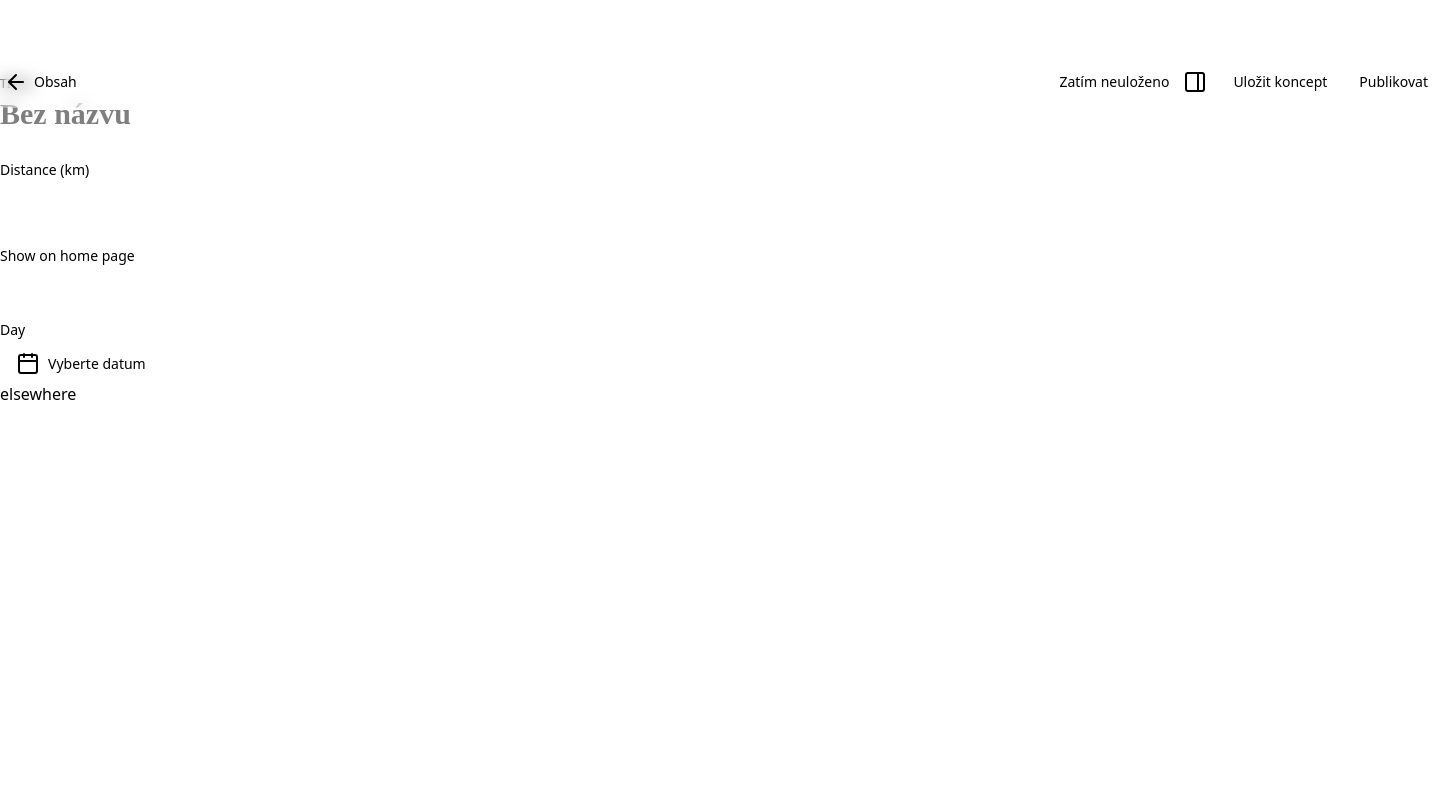
it: labels the date picker navigation in Czech
Step 1. Click the button "Vyberte datum" → (97, 364), box [0,346,1439,382]
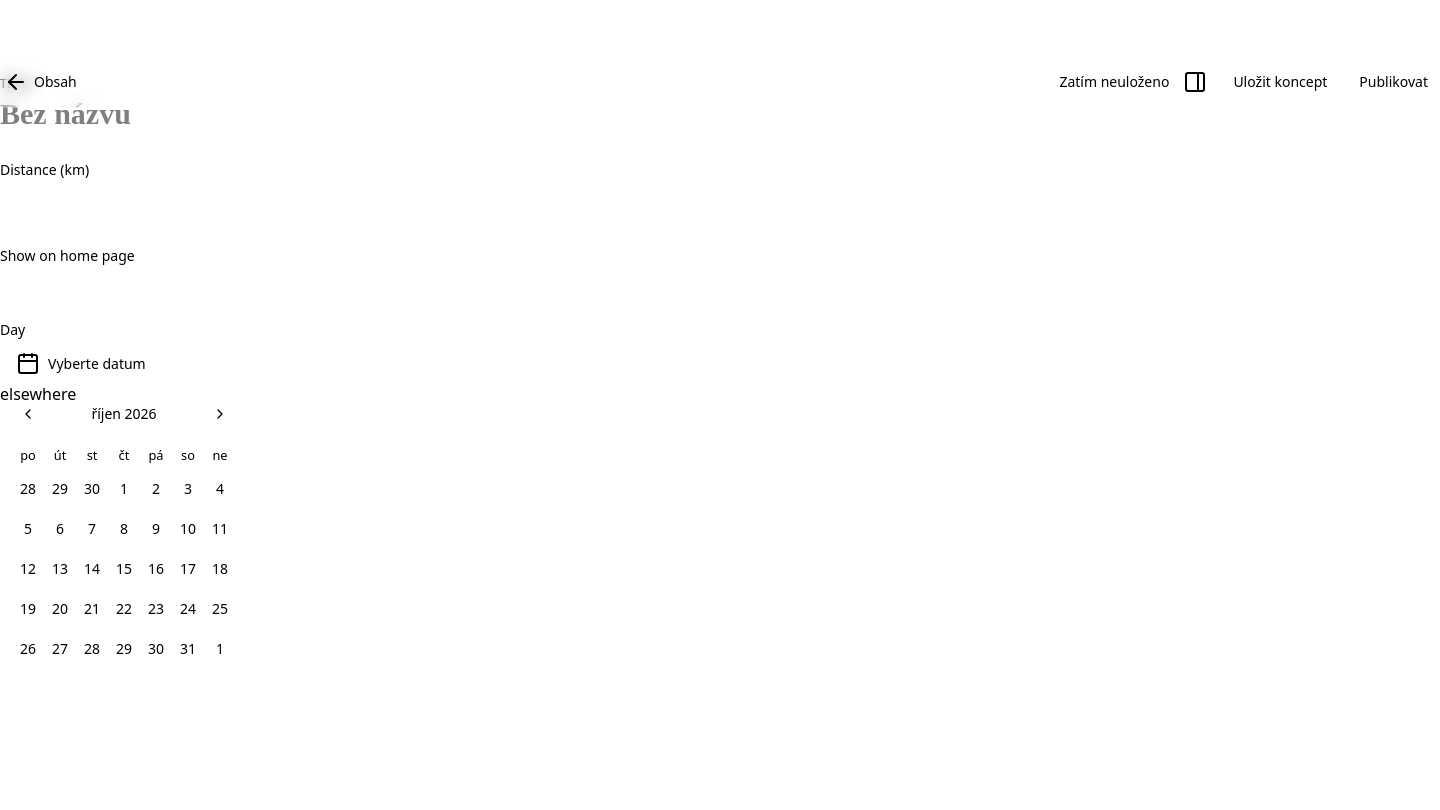
Now the button named "Přejít na další měsíc" is shown, box [204,398,236,430]
